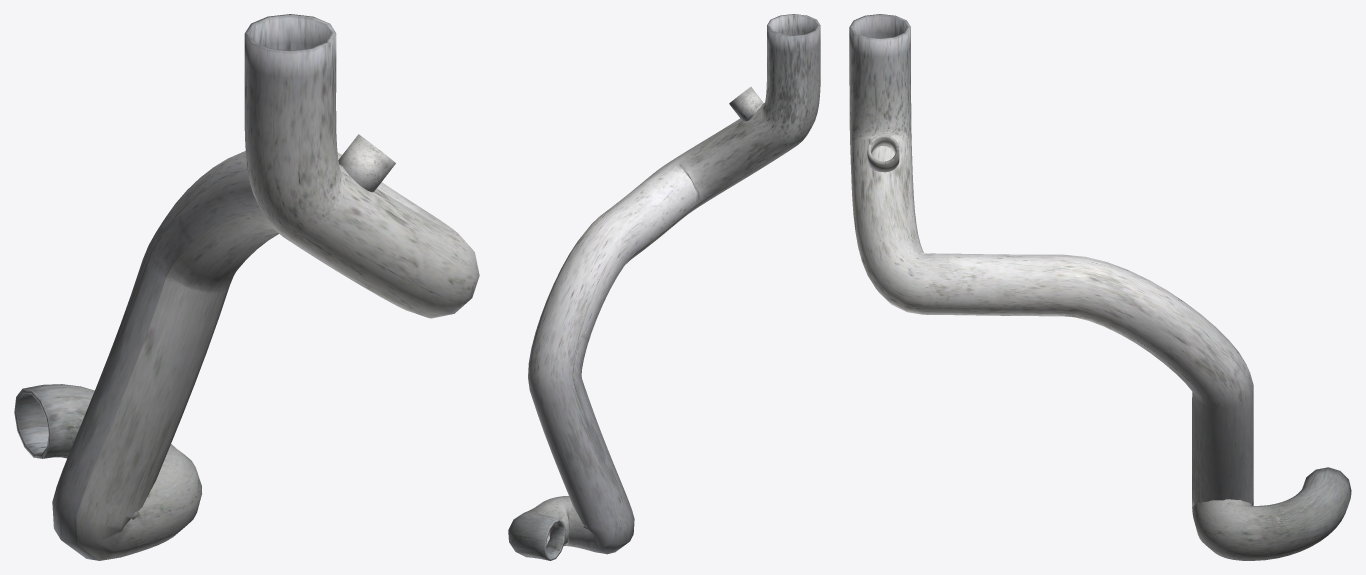
File: turboBig_intercooler_tube.obj
The picture shows the model from 3 angles, left to right: view 1: azimuth 30°, elevation 25°; view 2: azimuth 150°, elevation 25°; view 3: azimuth 270°, elevation 25°; orthographic projection. The views are drawn at different scales.
Visible parts, largest first — view 1: TurboBig-Intercooler-Tube___BezierCurve.014, TurboBig-Intercooler-Tube-Blowoff-Connector_Cylinder.003; view 2: TurboBig-Intercooler-Tube___BezierCurve.014, TurboBig-Intercooler-Tube-Blowoff-Connector_Cylinder.003; view 3: TurboBig-Intercooler-Tube___BezierCurve.014, TurboBig-Intercooler-Tube-Blowoff-Connector_Cylinder.003.
Boxes of the visible parts, left/top/right/bottom form: TurboBig-Intercooler-Tube___BezierCurve.014: left=14, top=14, right=479, bottom=560; TurboBig-Intercooler-Tube-Blowoff-Connector_Cylinder.003: left=338, top=134, right=395, bottom=192; TurboBig-Intercooler-Tube___BezierCurve.014: left=508, top=14, right=820, bottom=560; TurboBig-Intercooler-Tube-Blowoff-Connector_Cylinder.003: left=729, top=87, right=763, bottom=121; TurboBig-Intercooler-Tube___BezierCurve.014: left=849, top=14, right=1351, bottom=560; TurboBig-Intercooler-Tube-Blowoff-Connector_Cylinder.003: left=867, top=134, right=899, bottom=172.
Size of the model in its own units: 0.1758 by 0.4897 by 0.4564.
